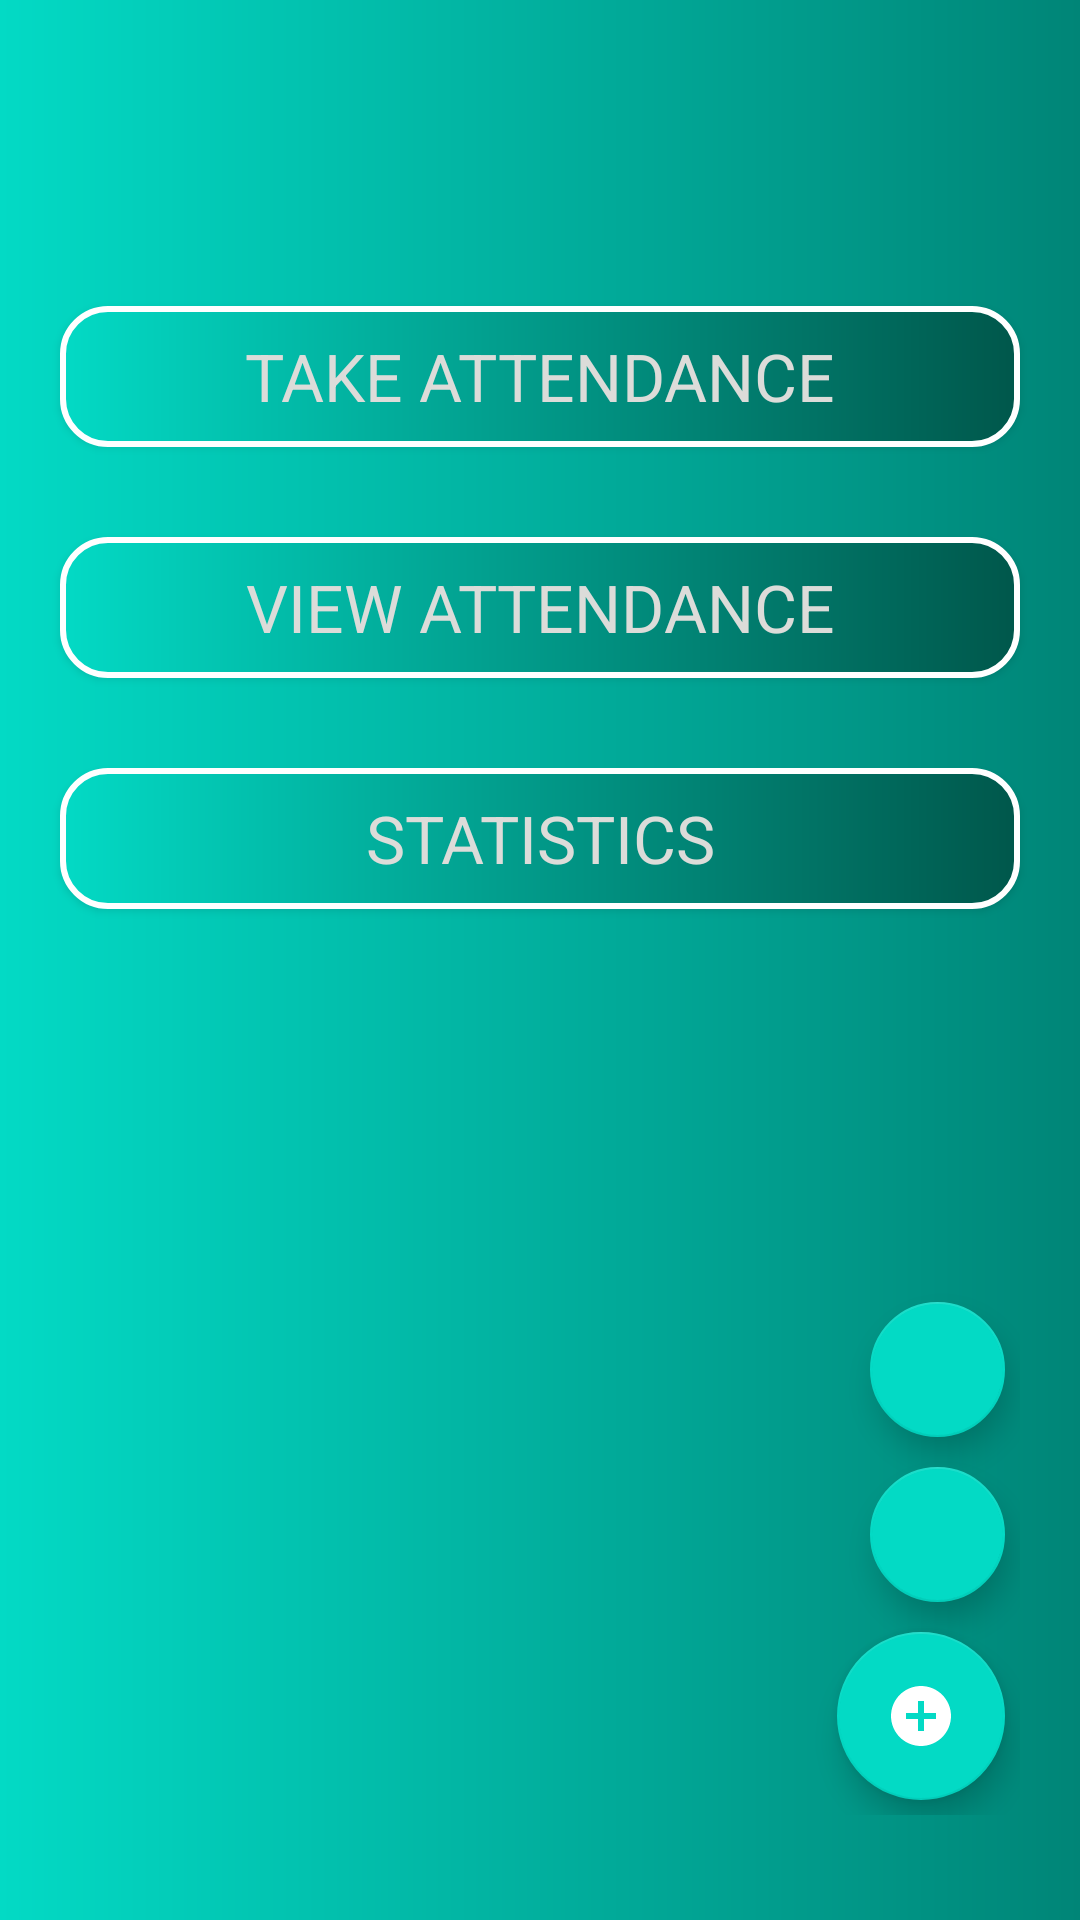

Named icons in this screenshot (1080px×1920px) and their bounding boxes, (x1, y1, x2, y2):
add circle: (837, 1632, 1005, 1800)
